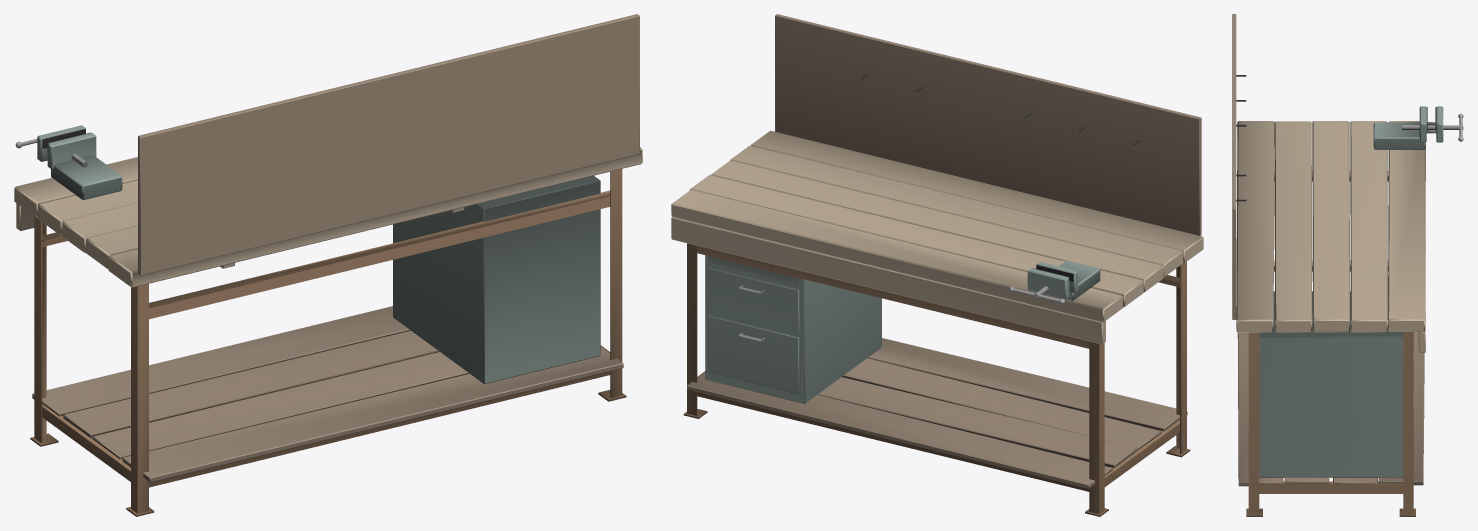
The model's file is workbench.glb.
3 renders of one model, left to right at view 1: azimuth 30°, elevation 25°; view 2: azimuth 150°, elevation 25°; view 3: azimuth 270°, elevation 25°, orthographic. The views are drawn at different scales.
Parts seen in each view (by area): view 1: static; view 2: static; view 3: static.
Part boxes in pixels (box(x1,y1,x2,y2)): static: box(14, 14, 642, 516); static: box(671, 14, 1203, 516); static: box(1232, 14, 1463, 516).
Bounding box in the file's own units: 2.01 × 1.45 × 0.982.
